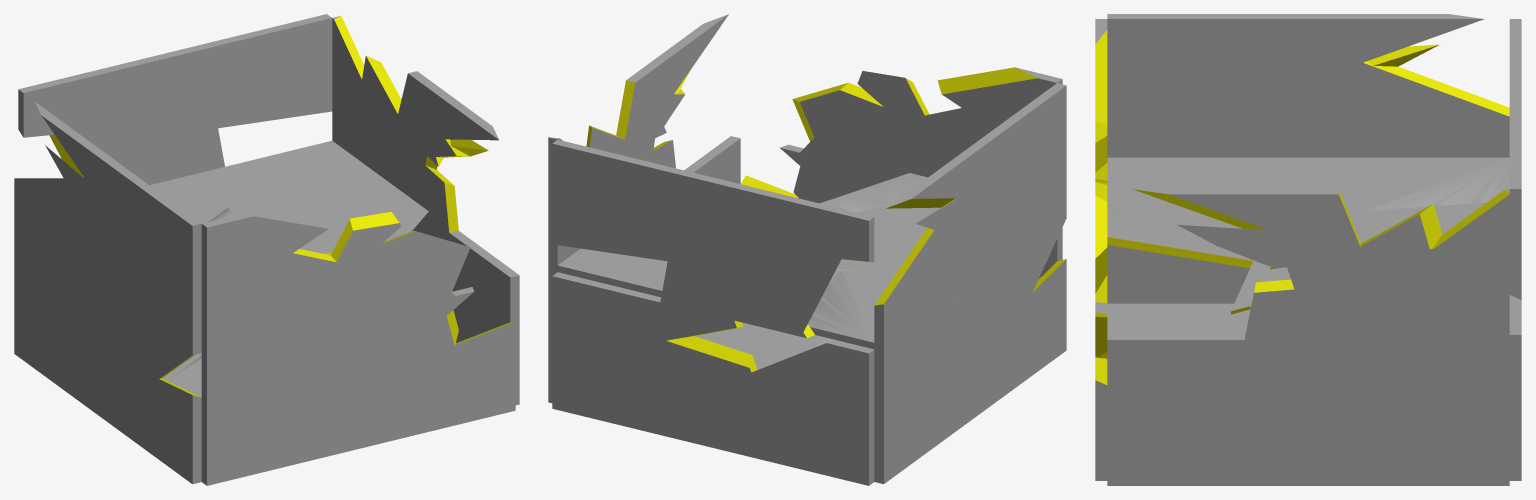
The model's file is WB_BreakableBuilding.fbx.
3 renders of one model, left to right at view 1: azimuth 30°, elevation 25°; view 2: azimuth 150°, elevation 25°; view 3: azimuth 270°, elevation 25°, orthographic. The views are drawn at different scales.
Visible parts, largest first — view 1: shard101 (×6), shard93 (×6), shard102 (×4), shard87 (×4), shard103 (×5), shard91 (×5), shard90 (×6), shard96 (×5), shard92 (×6), shard88 (×4), shard104 (×6), shard94 (×6) (+14 smaller); view 2: shard101 (×5), shard93 (×6), shard91 (×5), shard87 (×4), shard102 (×3), shard103 (×4), shard96 (×5), shard104 (×5), shard86 (×5), shard88 (×4), shard92 (×5), shard90 (×5) (+15 smaller); view 3: shard87 (×5), shard93 (×4), shard101 (×3), shard102 (×3), shard104 (×5), shard105 (×2), shard86 (×4), shard116, shard90 (×3), shard88 (×3), shard99 (×4), shard92 (×2) (+15 smaller).
Boxes of the visible parts, x1,y1,x2,y2 form: shard101 (×6): (94,121,437,447); shard93 (×6): (34,22,499,357); shard102 (×4): (14,194,319,485); shard87 (×4): (155,63,515,484); shard103 (×5): (14,53,519,439); shard91 (×5): (14,14,519,387); shard90 (×6): (75,128,458,460); shard96 (×5): (14,107,350,454); shard92 (×6): (14,87,519,441); shard88 (×4): (59,57,474,355); shard104 (×6): (65,117,470,451); shard94 (×6): (89,85,443,390); shard101 (×5): (693,90,1008,452); shard93 (×6): (578,14,990,338); shard91 (×5): (552,67,1062,384); shard87 (×4): (548,127,1066,485); shard102 (×3): (552,260,950,484); shard103 (×4): (552,100,1016,437); shard96 (×5): (552,114,975,452); shard104 (×5): (749,82,1039,464); shard86 (×5): (731,111,1030,470); shard88 (×4): (734,99,1041,314); shard92 (×5): (552,108,993,440); shard90 (×5): (660,127,976,447); shard87 (×5): (1095,69,1509,485); shard93 (×4): (1132,14,1521,375); shard101 (×3): (1234,87,1382,485); shard102 (×3): (1107,112,1521,485); shard104 (×5): (1095,85,1450,480); shard105 (×2): (1107,157,1278,334); shard86 (×4): (1189,108,1430,485); shard116: (1307,157,1509,210); shard90 (×3): (1244,108,1369,485); shard88 (×3): (1157,14,1521,392); shard99 (×4): (1095,34,1442,406); shard92 (×2): (1107,66,1509,435).
Size of the model in its own units: 1060 by 800 by 1060.
